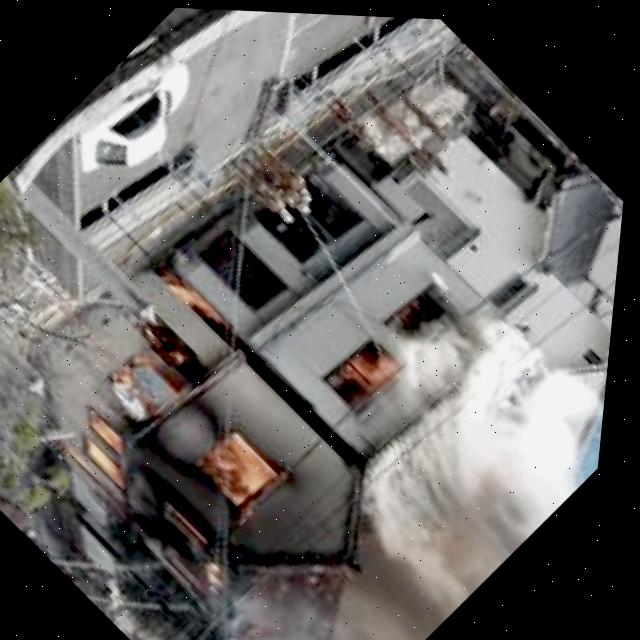Fire: (13, 247, 401, 616), (332, 327, 415, 408)
Smoke: (209, 291, 619, 640)
